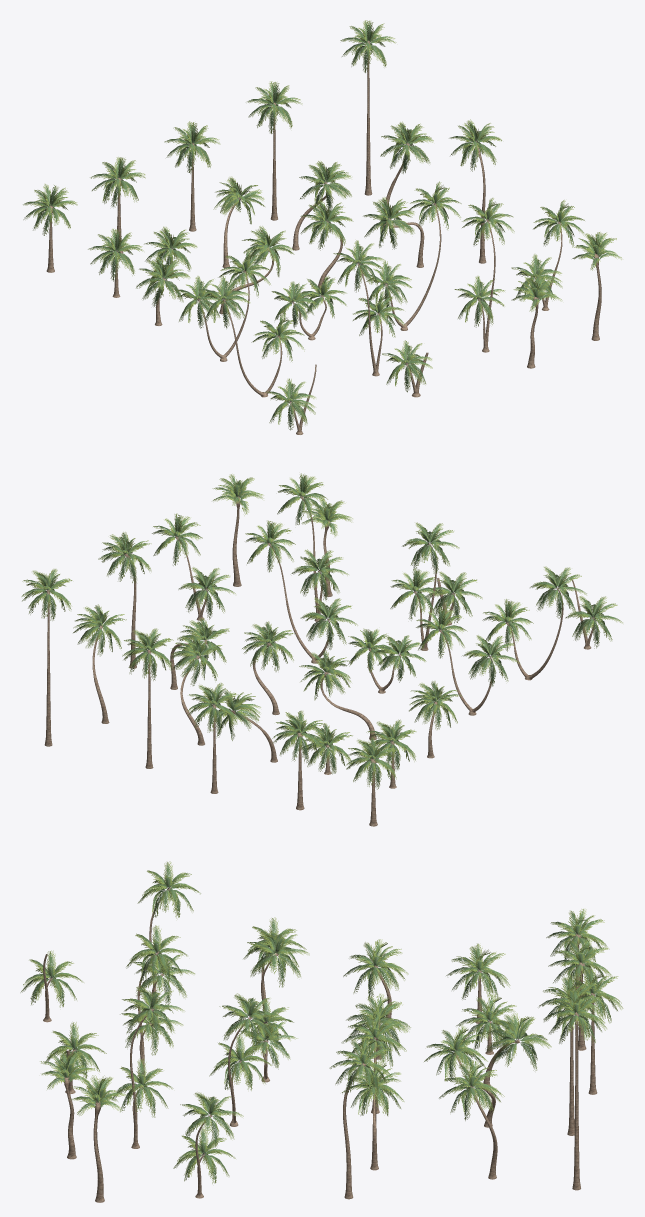
File: palm-tree-pack.glb
3 renders of one model, top to bottom at view 1: azimuth 30°, elevation 25°; view 2: azimuth 150°, elevation 25°; view 3: azimuth 270°, elevation 25°, orthographic. The views are drawn at different scales.
Parts seen in each view (by area): view 1: M_Palm_P2_19, M_Palm_P2_20, M_Palm_P2_21, M_Palm_P2_18, M_Palm_P2_16, M_Palm_P2_22, M_Palm_P2_17, M_Palm_P2_5, M_Palm_P2_4, M_Palm_P2_15, M_Palm_P2_9, M_Palm_P2_3 (+14 smaller); view 2: M_Palm_P2_18, M_Palm_P2_19, M_Palm_P2_16, M_Palm_P2_20, M_Palm_P2_21, M_Palm_P2_22, M_Palm_P2_17, M_Palm_P2_5, M_Palm_P2_4, M_Palm_P2_15, M_Palm_P2_10, M_Palm_P2_2 (+14 smaller); view 3: M_Palm_P2_21, M_Palm_P2_18, M_Palm_P2_22, M_Palm_P2_20, M_Palm_P2_19, M_Palm_P2_5, M_Palm_P2_15, M_Palm_P2_16, M_Palm_P2_10, M_Palm_P2_8, M_Palm_P2_11, M_Palm_P2_6 (+14 smaller).
Boxes of the visible parts, box(x1,y1,x2,y2) form: M_Palm_P2_19: box(199, 275, 304, 397); M_Palm_P2_20: box(333, 240, 404, 376); M_Palm_P2_21: box(454, 198, 514, 352); M_Palm_P2_18: box(363, 181, 461, 330); M_Palm_P2_16: box(173, 249, 270, 361); M_Palm_P2_22: box(511, 200, 585, 310); M_Palm_P2_17: box(271, 275, 346, 340); M_Palm_P2_5: box(340, 20, 396, 195); M_Palm_P2_4: box(247, 81, 302, 220); M_Palm_P2_15: box(449, 119, 501, 263); M_Palm_P2_9: box(292, 161, 351, 250); M_Palm_P2_3: box(164, 121, 220, 231); M_Palm_P2_18: box(245, 520, 357, 663); M_Palm_P2_19: box(482, 566, 586, 680); M_Palm_P2_16: box(416, 606, 519, 715); M_Palm_P2_20: box(390, 522, 459, 650); M_Palm_P2_21: box(277, 473, 348, 621); M_Palm_P2_22: box(152, 513, 235, 620); M_Palm_P2_17: box(348, 628, 426, 693); M_Palm_P2_5: box(21, 569, 72, 746); M_Palm_P2_4: box(122, 628, 173, 768); M_Palm_P2_15: box(98, 532, 151, 668); M_Palm_P2_10: box(73, 604, 126, 723); M_Palm_P2_2: box(272, 710, 326, 810); M_Palm_P2_21: box(112, 985, 184, 1148); M_Palm_P2_18: box(209, 993, 282, 1126); M_Palm_P2_22: box(173, 1092, 243, 1198); M_Palm_P2_20: box(120, 925, 187, 1088); M_Palm_P2_19: box(133, 861, 200, 1027); M_Palm_P2_5: box(543, 985, 606, 1190); M_Palm_P2_15: box(329, 1035, 393, 1199); M_Palm_P2_16: box(243, 917, 309, 1023); M_Palm_P2_10: box(439, 1059, 504, 1179); M_Palm_P2_8: box(483, 1013, 551, 1085); M_Palm_P2_11: box(343, 939, 408, 1024); M_Palm_P2_6: box(446, 943, 510, 1023).
Size of the model in its own units: 110 by 43.54 by 123.
4 materials, 2 textured.
